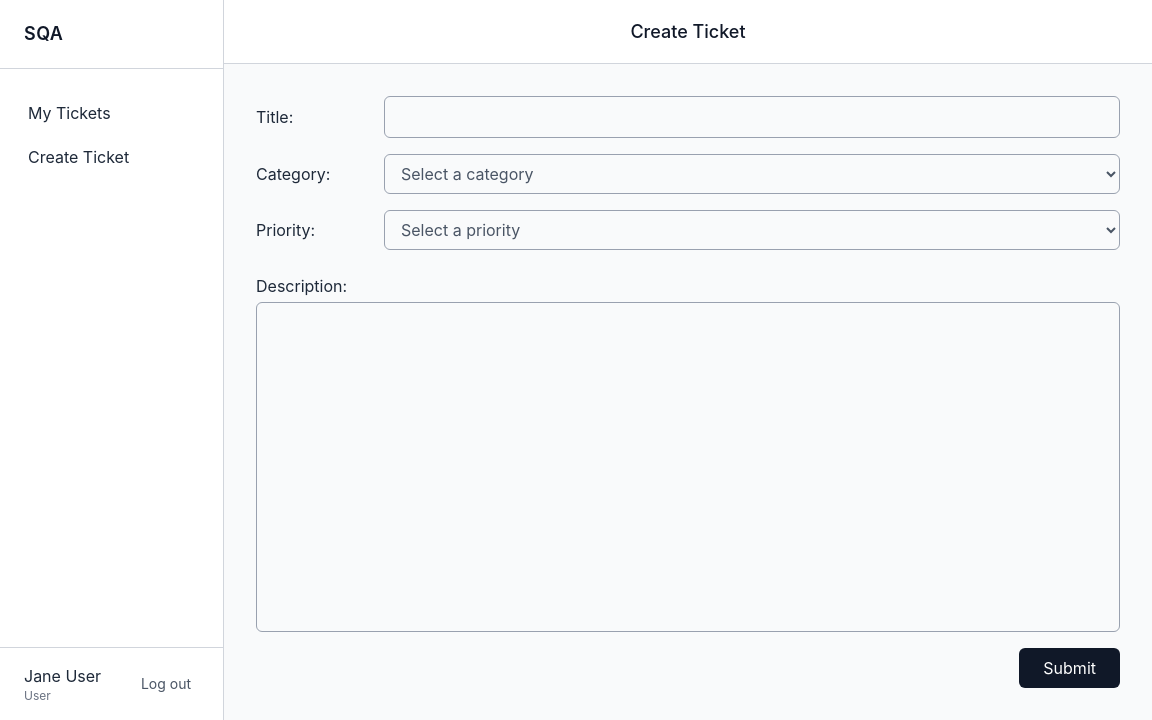
Scenario: CreateTicket page › TC-2 - FR-13: prevents submission and reports a missing title
Select "Login Issue" in the dropdown labelled "Category:" at (752, 174), box [384,154,1120,194]
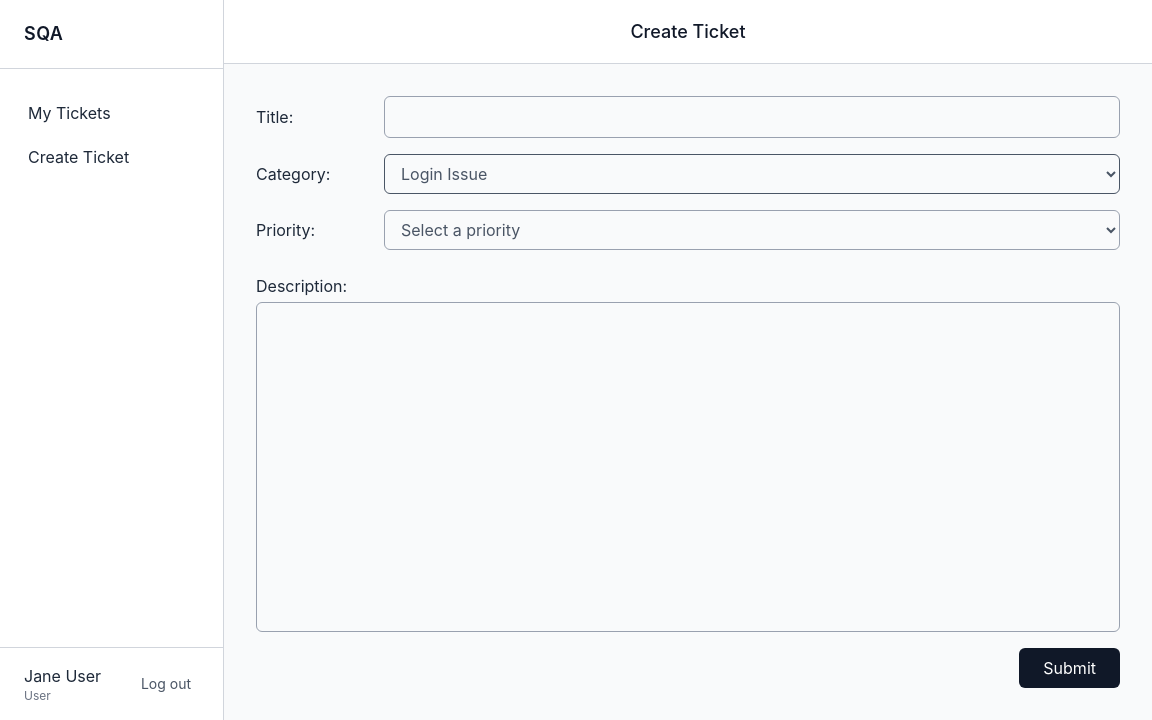
Select "High" in the dropdown labelled "Priority:" at (752, 230), box [384,210,1120,250]
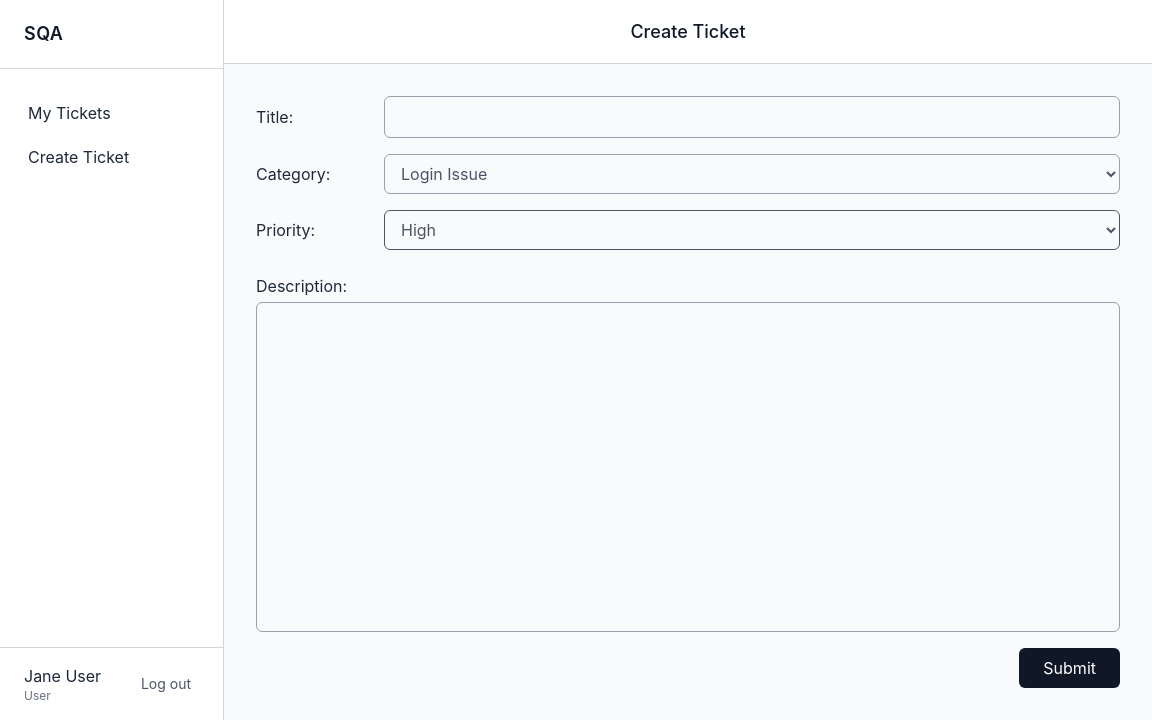
Type "Description without a title." into the text box labelled "Description:" at (688, 467), box [256,302,1120,632]
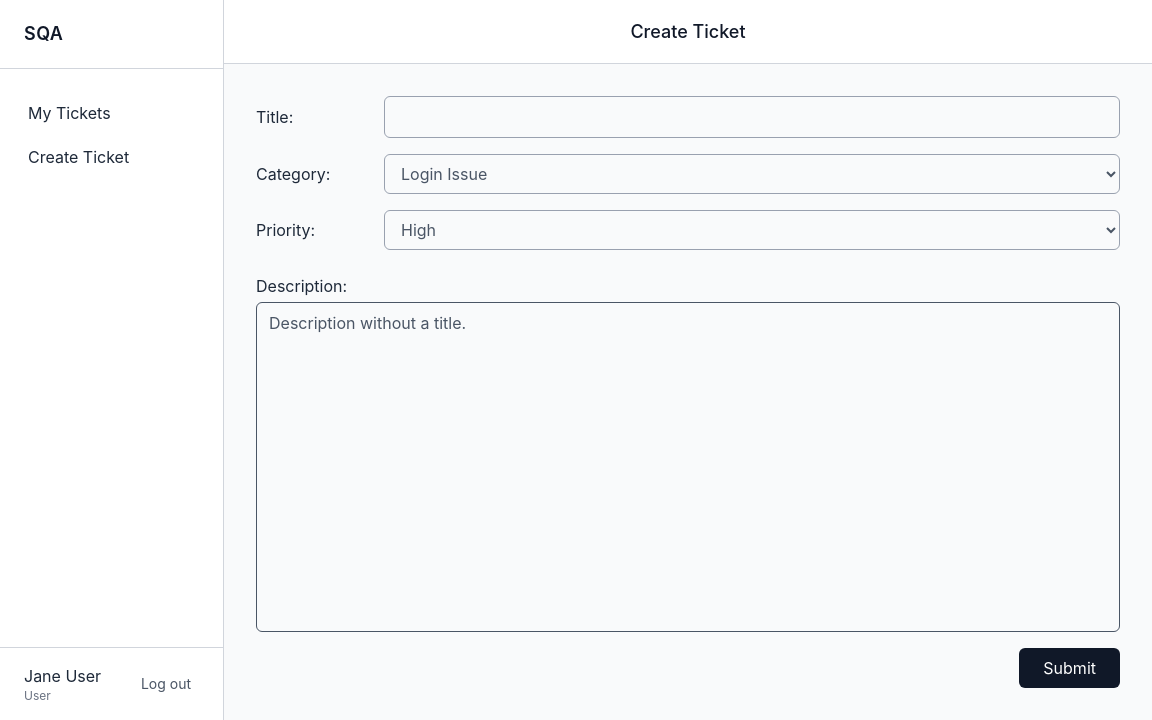
Click the button "Submit" at (1070, 668), box [1019,648,1120,688]
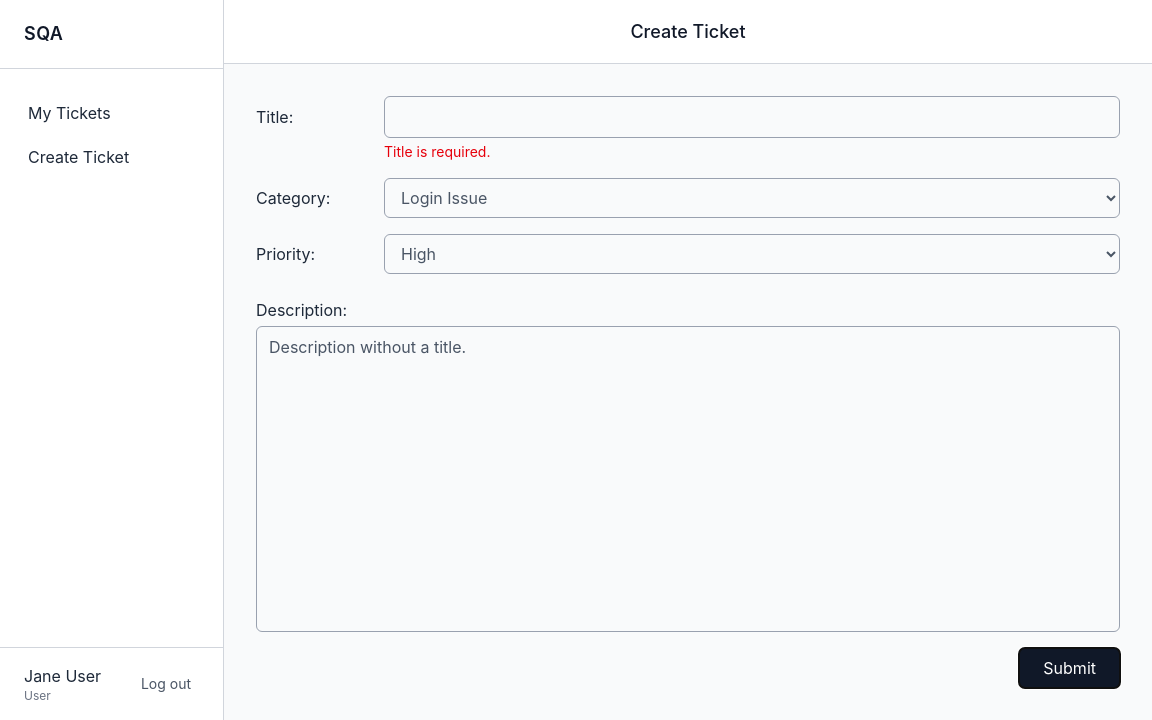
Check: the text "Title is required." is shown, box [384,143,490,160]
